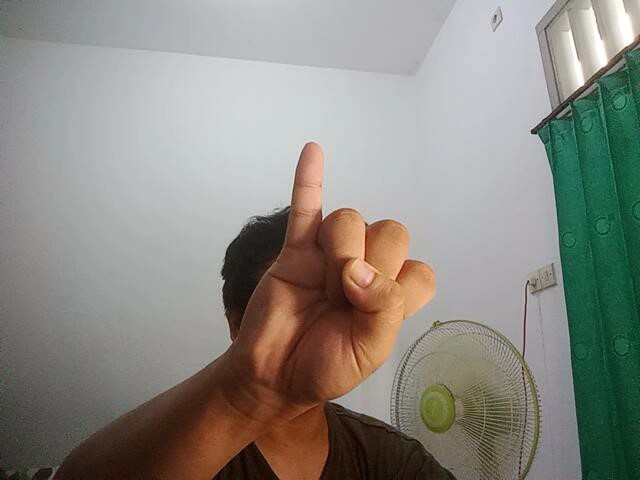I: (209, 130, 440, 414)
